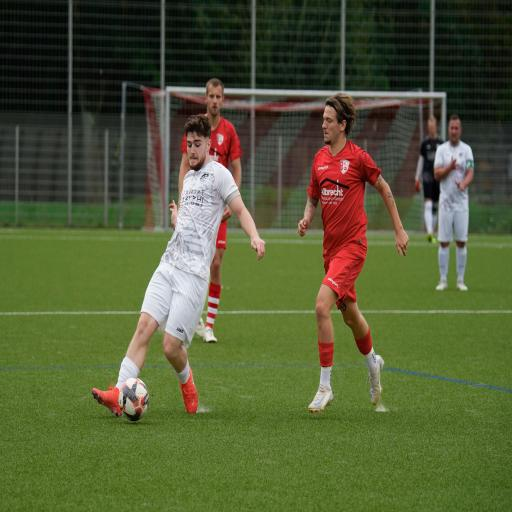shoe: (92, 386, 121, 416), (367, 355, 384, 405), (180, 368, 197, 413), (308, 385, 333, 412), (204, 327, 217, 342), (196, 318, 205, 338), (457, 281, 468, 291), (436, 281, 447, 290), (428, 234, 437, 243), (427, 234, 433, 242)
